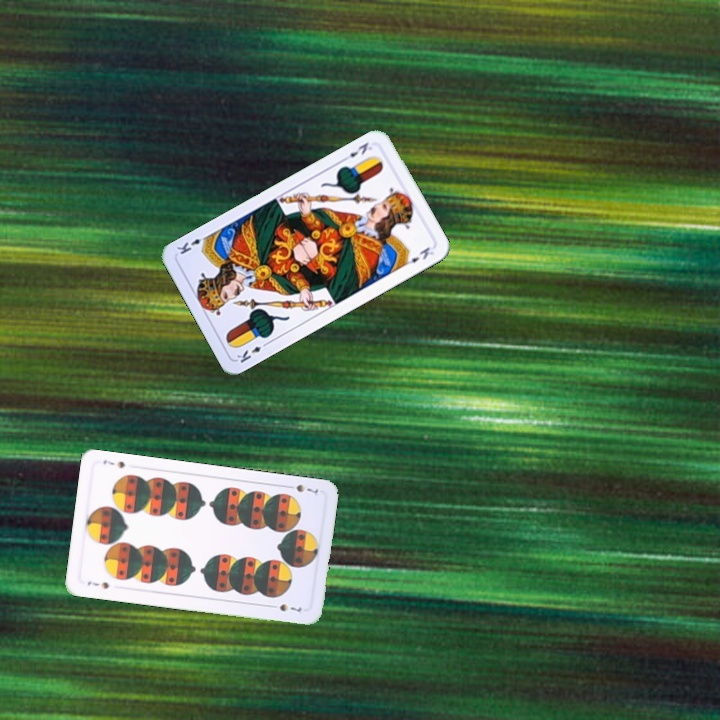EK: (233, 338, 271, 366), (338, 138, 375, 164)
S7: (282, 480, 321, 496), (83, 577, 111, 592)
